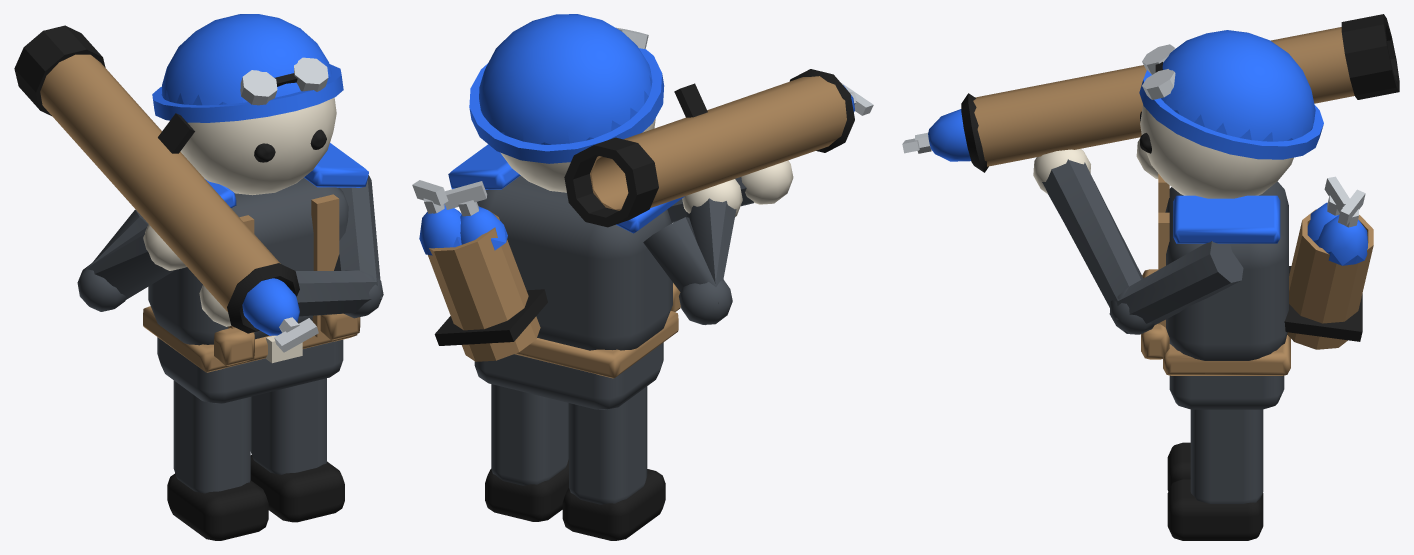
Rendered from rocket_soldier.glb.
The picture shows the model from 3 angles, left to right: view 1: azimuth 30°, elevation 25°; view 2: azimuth 150°, elevation 25°; view 3: azimuth 270°, elevation 25°; orthographic projection. The views are drawn at different scales.
Parts seen in each view (by area): view 1: barrel__M_Kraft, head__M_Team, arms__M_SmokePlastic, head__M_CreamPlastic, turret__M_SmokePlastic, leg_r__M_SmokePlastic, leg_l__M_SmokePlastic, hips__M_SmokePlastic, barrel__M_Licorice, leg_r__M_Licorice, turret__M_Kraft, leg_l__M_Licorice (+8 smaller); view 2: head__M_Team, turret__M_SmokePlastic, barrel__M_Kraft, rocket_quiver__M_Kraft, arms__M_SmokePlastic, leg_r__M_SmokePlastic, leg_l__M_SmokePlastic, barrel__M_Licorice, hips__M_SmokePlastic, leg_r__M_Licorice, hips__M_Kraft, leg_l__M_Licorice (+8 smaller); view 3: head__M_Team, barrel__M_Kraft, arms__M_SmokePlastic, turret__M_SmokePlastic, leg_l__M_SmokePlastic, head__M_CreamPlastic, rocket_quiver__M_Kraft, turret__M_Team, barrel__M_Licorice, leg_l__M_Licorice, hips__M_SmokePlastic, hips__M_Kraft (+10 smaller).
Boxes of the visible parts, x1,y1,x2,y2 form: barrel__M_Kraft: [40, 54, 280, 311]; head__M_Team: [152, 14, 343, 122]; arms__M_SmokePlastic: [77, 175, 383, 318]; head__M_CreamPlastic: [180, 97, 336, 195]; turret__M_SmokePlastic: [148, 177, 348, 345]; leg_r__M_SmokePlastic: [173, 380, 250, 493]; leg_l__M_SmokePlastic: [250, 378, 326, 474]; hips__M_SmokePlastic: [157, 337, 343, 403]; barrel__M_Licorice: [14, 25, 299, 333]; leg_r__M_Licorice: [167, 473, 268, 540]; turret__M_Kraft: [214, 194, 360, 365]; leg_l__M_Licorice: [250, 455, 344, 522]; head__M_Team: [469, 14, 664, 163]; turret__M_SmokePlastic: [477, 175, 672, 350]; barrel__M_Kraft: [590, 76, 846, 210]; rocket_quiver__M_Kraft: [428, 211, 540, 361]; arms__M_SmokePlastic: [643, 177, 753, 324]; leg_r__M_SmokePlastic: [569, 386, 647, 504]; leg_l__M_SmokePlastic: [491, 384, 568, 485]; barrel__M_Licorice: [564, 69, 854, 227]; hips__M_SmokePlastic: [474, 342, 663, 409]; leg_r__M_Licorice: [562, 469, 665, 540]; hips__M_Kraft: [514, 311, 678, 378]; leg_l__M_Licorice: [485, 459, 568, 521]; head__M_Team: [1139, 30, 1323, 159]; barrel__M_Kraft: [973, 27, 1354, 166]; arms__M_SmokePlastic: [1042, 159, 1243, 334]; turret__M_SmokePlastic: [1165, 181, 1288, 360]; leg_l__M_SmokePlastic: [1190, 409, 1263, 503]; head__M_CreamPlastic: [1140, 104, 1293, 198]; rocket_quiver__M_Kraft: [1287, 209, 1373, 349]; turret__M_Team: [1173, 195, 1280, 243]; barrel__M_Licorice: [961, 14, 1399, 172]; leg_l__M_Licorice: [1167, 479, 1263, 540]; hips__M_SmokePlastic: [1169, 375, 1284, 409]; hips__M_Kraft: [1163, 335, 1290, 375].
Bounding box in the file's own units: 0.3294 × 0.5477 × 0.5209.
